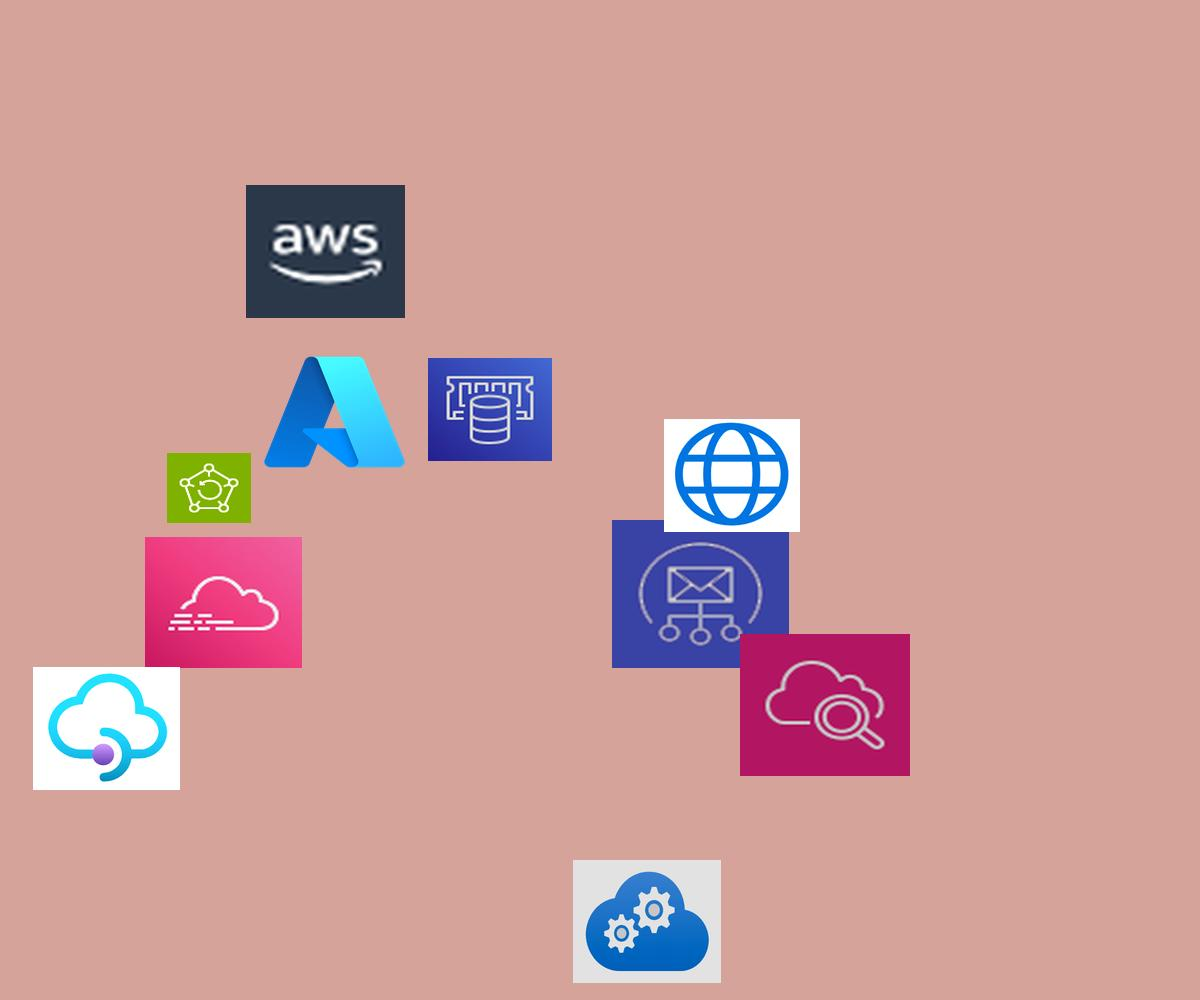AWS-Backup: (167, 453, 251, 523)
AWS-Cloud-logo: (246, 185, 405, 318)
AWS-CloudTrail: (145, 537, 302, 668)
AWS-CloudWatch: (740, 634, 910, 776)
AWS-ElastiCache: (428, 358, 552, 461)
AWS-Simple-Email-Service: (612, 520, 789, 668)
Azure_api_gateway: (33, 667, 180, 790)
Azure_cloud_services: (573, 860, 721, 983)
Azure_http: (664, 419, 800, 532)
Azure_services: (258, 348, 411, 476)
